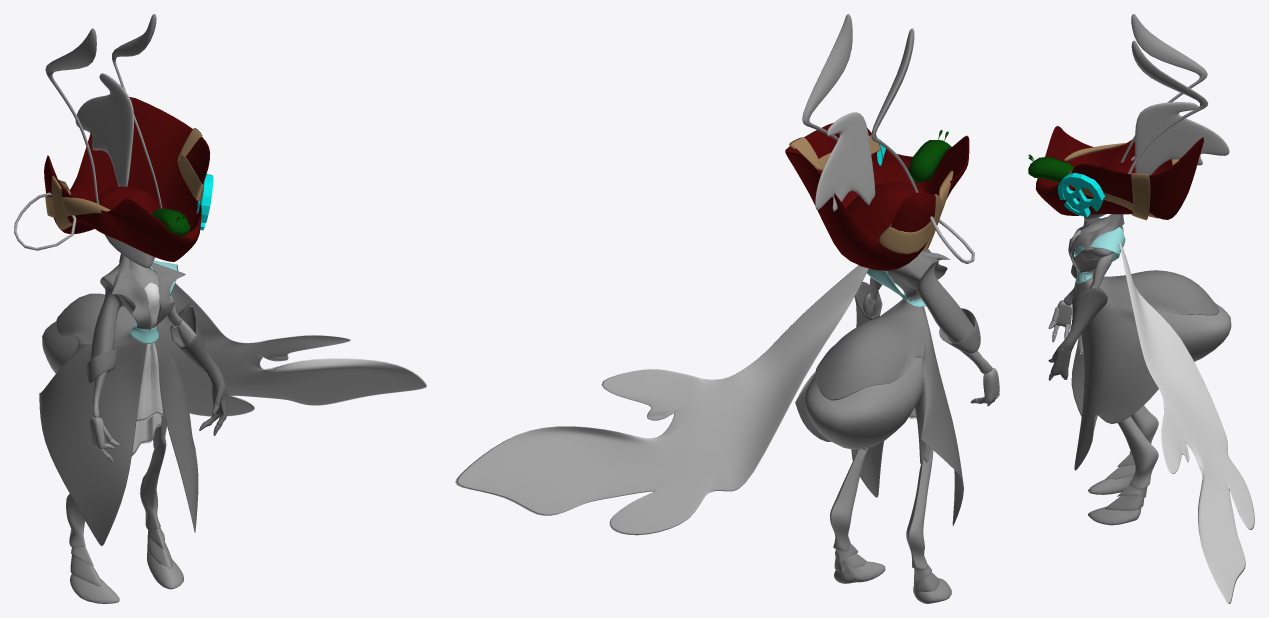
The model's file is captainModel.fbx.
3 renders of one model, left to right at view 1: azimuth 30°, elevation 25°; view 2: azimuth 150°, elevation 25°; view 3: azimuth 270°, elevation 25°, orthographic. The views are drawn at different scales.
Parts seen in each view (by area): view 1: Coat, Wing, HatMain, Feather, leftLeg, rightLeg, body, Glove, antena_r, drap2, antena_l, strap2 (+5 smaller); view 2: Wing, Coat, HatMain, body, Feather, rightLeg, leftLeg, antena_l, strap2, antena_r, dennis_body; view 3: Wing, Coat, HatMain, Feather, leftLeg, body, Glove, antena_r, rightLeg, button, antena_l, Sash (+6 smaller).
Boxes of the visible parts, box(x1,y1,x2,y2) form: Coat: box(39, 253, 198, 545); Wing: box(156, 283, 426, 416); HatMain: box(44, 97, 210, 261); Feather: box(75, 73, 133, 186); leftLeg: box(140, 361, 183, 589); rightLeg: box(66, 494, 119, 603); body: box(42, 235, 158, 373); Glove: box(169, 303, 226, 435); antena_r: box(45, 28, 98, 203); drap2: box(136, 343, 163, 422); antena_l: box(112, 14, 162, 208); strap2: box(45, 180, 110, 217); Wing: box(455, 265, 868, 535); Coat: box(795, 249, 980, 525); HatMain: box(785, 123, 969, 270); body: box(805, 295, 924, 449); Feather: box(815, 112, 875, 211); rightLeg: box(906, 385, 951, 603); leftLeg: box(830, 448, 885, 583); antena_l: box(802, 14, 852, 141); strap2: box(879, 170, 953, 253); antena_r: box(871, 28, 918, 192); dennis_body: box(908, 140, 951, 183); Wing: box(1119, 240, 1254, 603); Coat: box(1068, 214, 1219, 470); HatMain: box(1035, 126, 1203, 219); Feather: box(1135, 102, 1229, 175); leftLeg: box(1088, 416, 1158, 525); body: box(1080, 214, 1231, 361); Glove: box(1048, 287, 1107, 380); antena_r: box(1120, 14, 1207, 162); rightLeg: box(1088, 405, 1158, 494); button: box(1058, 172, 1104, 216); antena_l: box(1128, 40, 1207, 173); Sash: box(1074, 227, 1125, 283).
Size of the model in its own units: 12.48 by 14.65 by 6.26.
